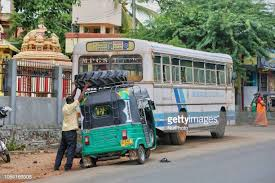tuk tuk: (80, 84, 159, 166)
